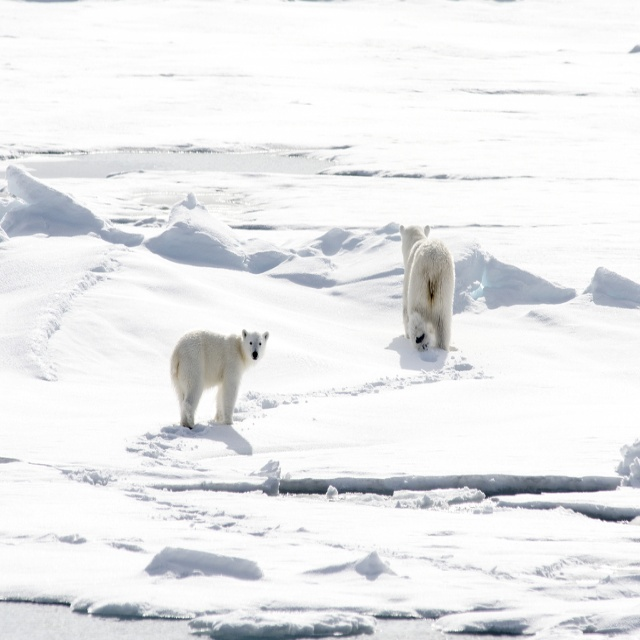Polar bear: (168, 327, 271, 431), (398, 222, 457, 351)
